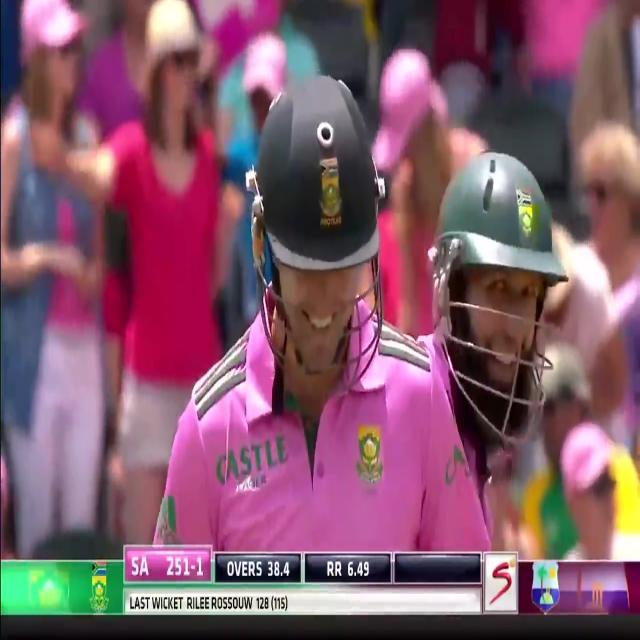Ball: (158, 70, 487, 556)
